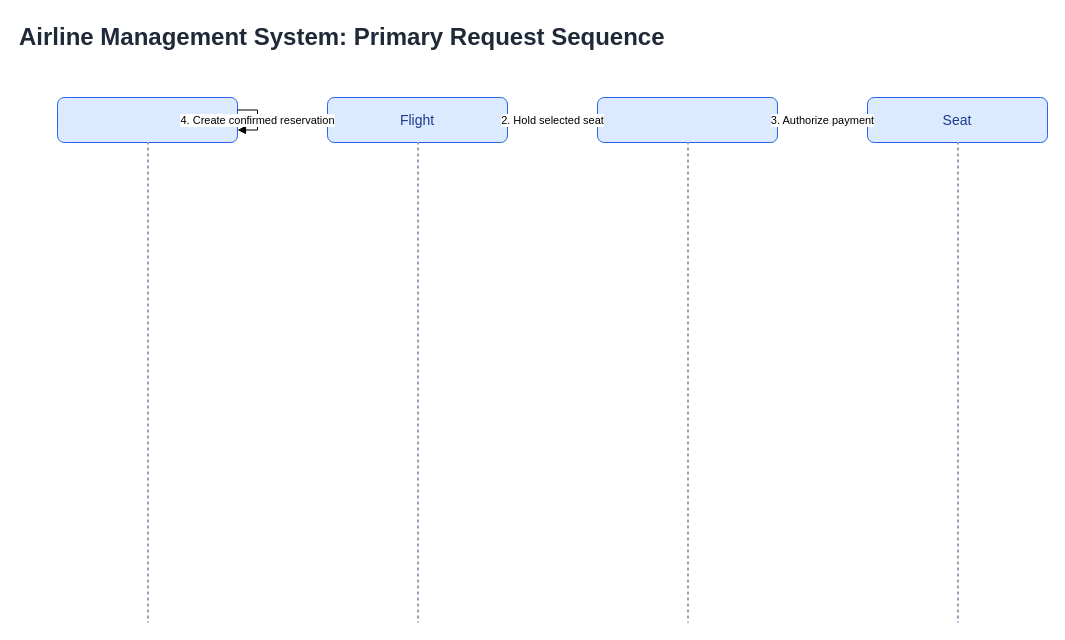
Image size: 1065x640. Some labels were removed from this diagram. Here are the shapes that lost their labels. From the top down, the centre of each, then its label:
At (147,119): "Client".
At (687,119): "Aircraft".
